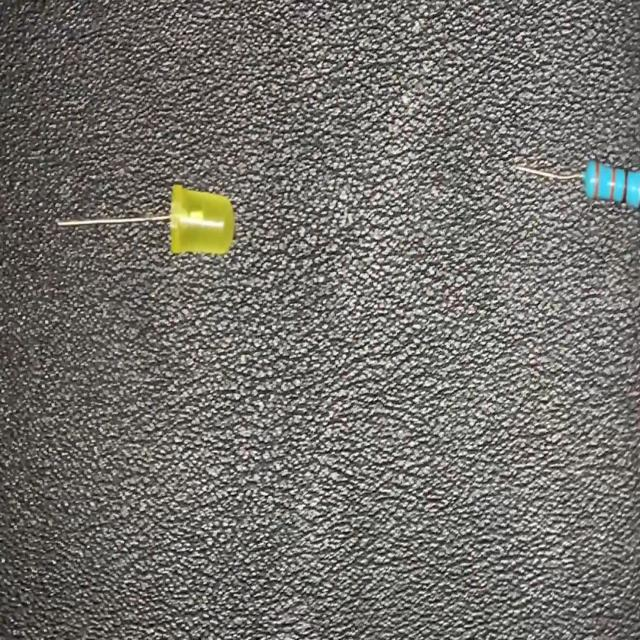missing-leg: (54, 176, 238, 261)
resistor: (512, 149, 640, 217)
